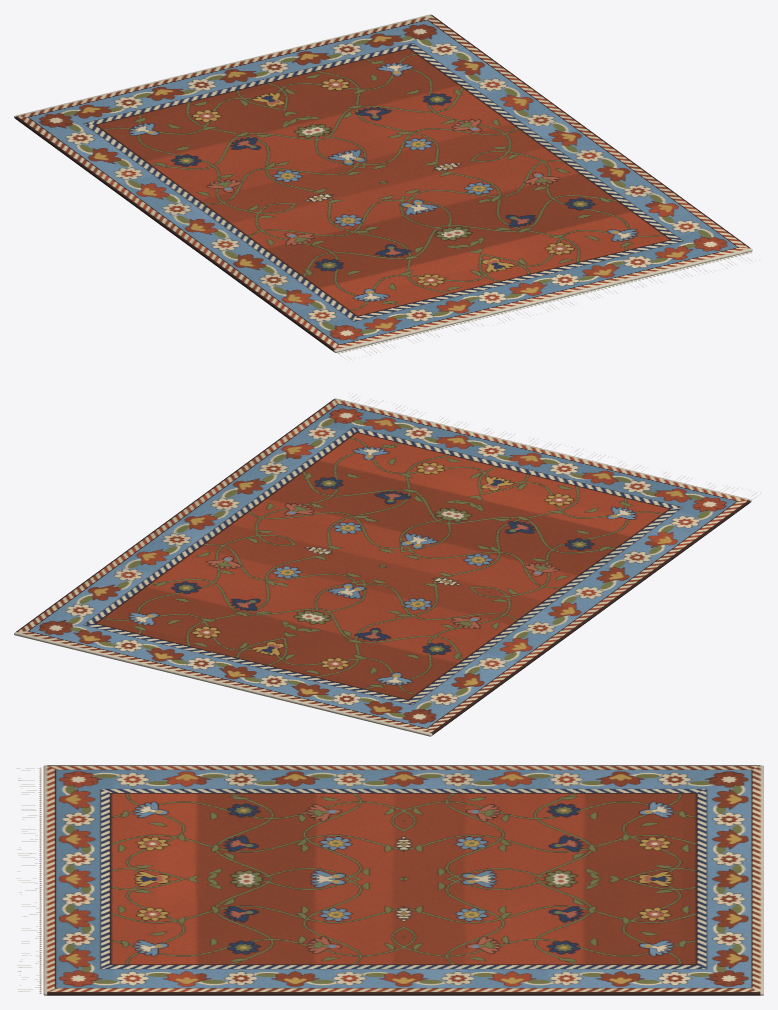
File: rug-mahal-wall.7dc9b027.glb
3 views of the same model, one above another, from view 1: azimuth 30°, elevation 25°; view 2: azimuth 150°, elevation 25°; view 3: azimuth 270°, elevation 25° (orthographic). The views are drawn at different scales.
Parts seen in each view (by area): view 1: rug-mahal-wall, rug-mahal-wall-fringe; view 2: rug-mahal-wall; view 3: rug-mahal-wall, rug-mahal-wall-fringe.
Part boxes in pixels (bbox=[...]): rug-mahal-wall: bbox=[14, 14, 752, 352]; rug-mahal-wall-fringe: bbox=[338, 251, 759, 360]; rug-mahal-wall: bbox=[14, 398, 751, 736]; rug-mahal-wall: bbox=[43, 765, 763, 995]; rug-mahal-wall-fringe: bbox=[16, 767, 43, 993].
Size of the model in its own units: 1.5 by 0.009 by 2.08.
2 materials, 2 textured.
